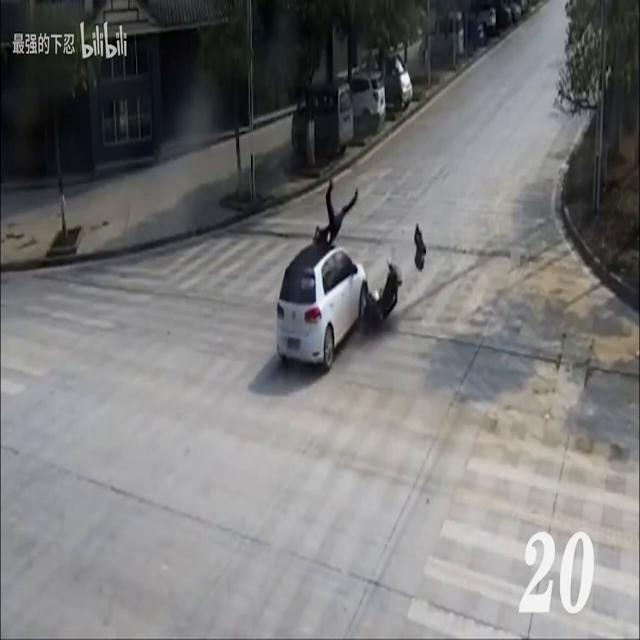accident: (274, 178, 428, 374)
non-accident: (289, 52, 417, 160)
